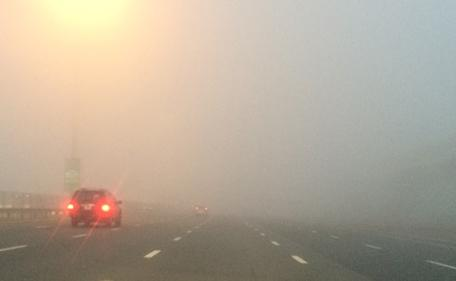car: (66, 188, 123, 227)
